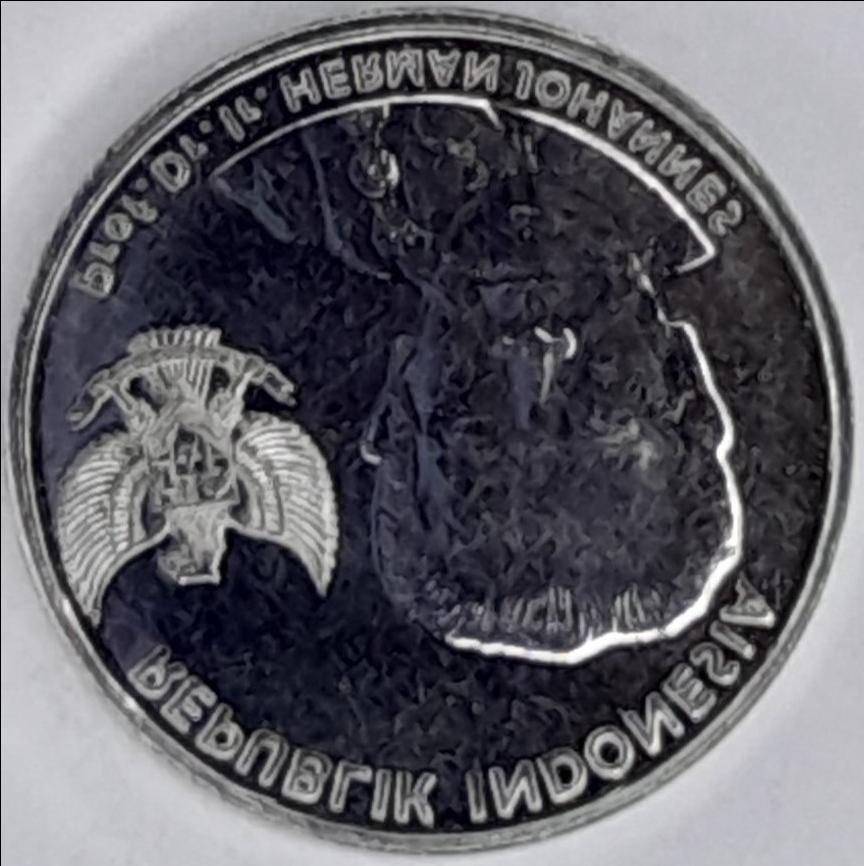coin_100_e2016: (4, 2, 858, 853)
